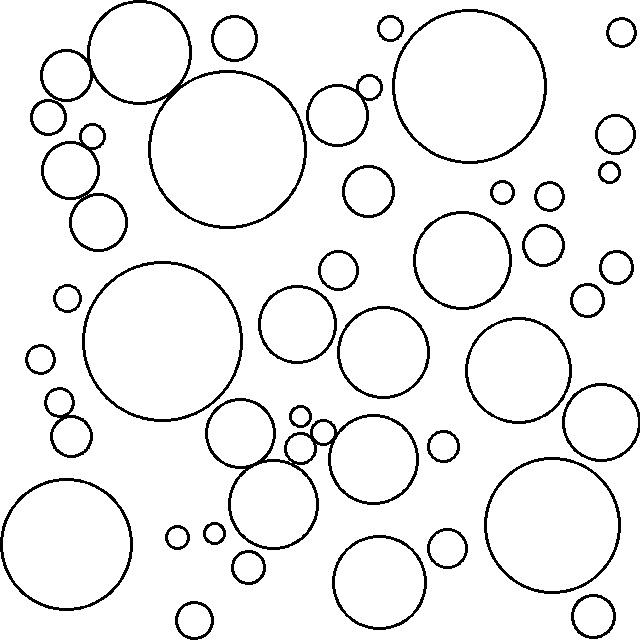circle: (80, 257, 245, 426), (146, 68, 310, 233), (390, 4, 550, 166), (483, 451, 624, 598), (0, 473, 135, 615), (463, 314, 575, 427), (88, 0, 193, 107), (412, 206, 515, 312), (330, 529, 430, 632), (336, 303, 432, 401), (225, 456, 324, 551), (326, 411, 422, 508), (256, 281, 339, 368), (561, 380, 640, 466), (203, 397, 279, 472), (303, 81, 371, 149), (67, 192, 132, 255), (39, 139, 101, 204), (340, 161, 398, 222), (37, 48, 93, 104), (210, 12, 263, 64), (568, 588, 620, 640), (519, 222, 570, 270), (424, 524, 472, 573), (591, 110, 640, 156), (48, 414, 97, 460), (314, 247, 362, 293), (173, 597, 218, 640), (227, 546, 272, 589), (597, 245, 638, 289), (566, 281, 610, 321), (27, 98, 68, 137), (531, 176, 570, 215), (426, 426, 462, 466), (603, 14, 640, 52), (22, 340, 58, 378), (41, 382, 77, 420), (282, 431, 319, 467), (51, 281, 84, 315), (487, 176, 519, 210), (374, 10, 405, 45), (76, 120, 108, 153), (308, 416, 339, 448), (162, 521, 193, 552), (355, 71, 384, 104), (200, 517, 229, 549), (595, 157, 624, 187), (287, 402, 314, 431)
